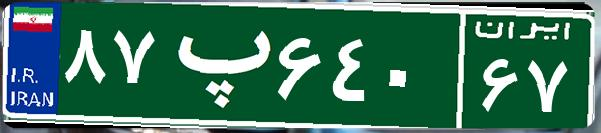0: (385, 28, 445, 110)
4: (330, 28, 385, 110)
6: (273, 28, 330, 110), (475, 38, 525, 113)
7: (110, 28, 158, 105), (525, 38, 570, 115)
8: (57, 26, 110, 107)
پ: (158, 15, 273, 115)
